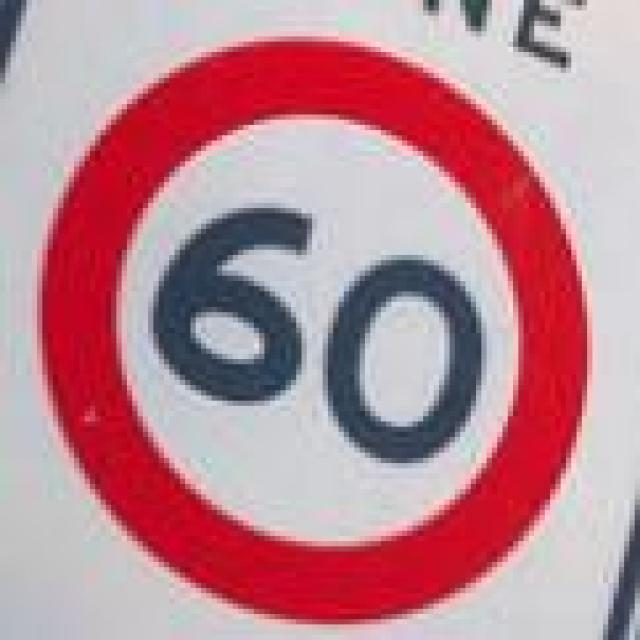speed_limit_60: (37, 31, 582, 624)
